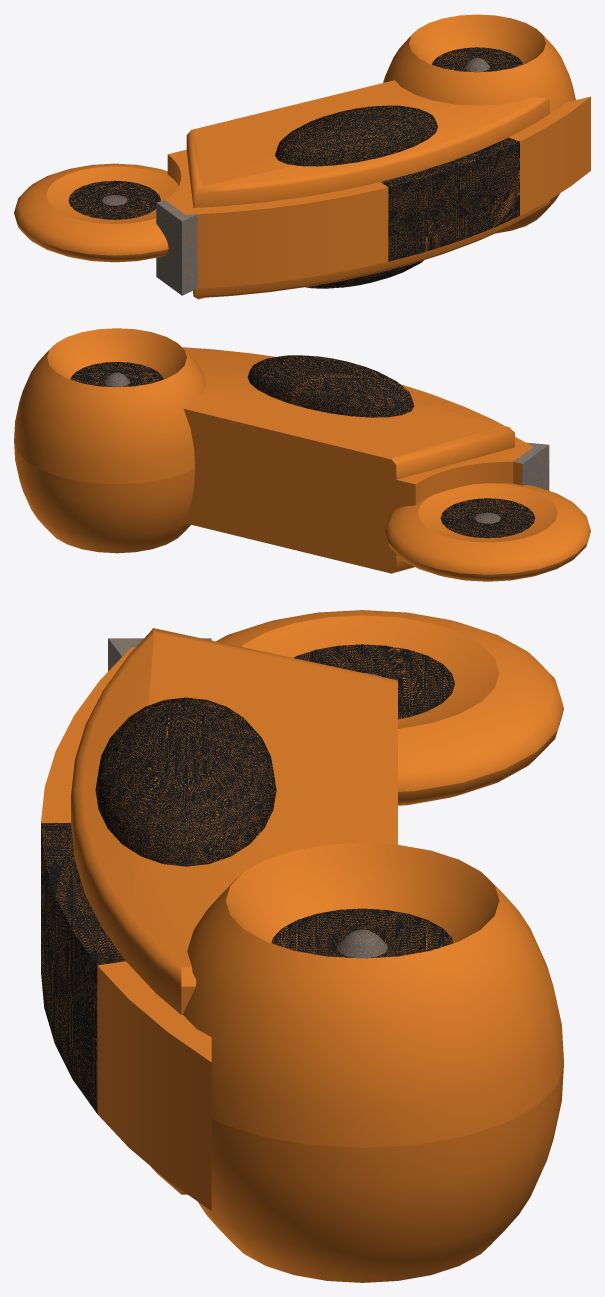
File: Light_Cycle_Y.dae
3 views of the same model, one above another, from view 1: azimuth 30°, elevation 25°; view 2: azimuth 150°, elevation 25°; view 3: azimuth 270°, elevation 25° (orthographic). The views are drawn at different scales.
Visible parts, largest first — view 1: group_0 (×6), Component_1 (×2), Component_4 (×3), group_1 (×2); view 2: group_0 (×3), Component_1 (×3), Component_4 (×3), group_1; view 3: Component_1 (×4), group_0 (×4), Component_4 (×3), group_1.
Boxes of the visible parts, box(x1,y1,x2,y2) form: group_0 (×6): box(156, 80, 590, 299); Component_1 (×2): box(383, 14, 575, 112); Component_4 (×3): box(14, 163, 178, 262); group_1 (×2): box(275, 105, 437, 288); group_0 (×3): box(182, 347, 549, 573); Component_1 (×3): box(14, 328, 206, 553); Component_4 (×3): box(385, 483, 590, 581); group_1: box(247, 355, 414, 417); Component_1 (×4): box(183, 842, 563, 1282); group_0 (×4): box(41, 628, 397, 1210); Component_4 (×3): box(216, 610, 563, 805); group_1: box(95, 697, 276, 866).
Size of the model in its own units: 113 by 47.87 by 32.75.
